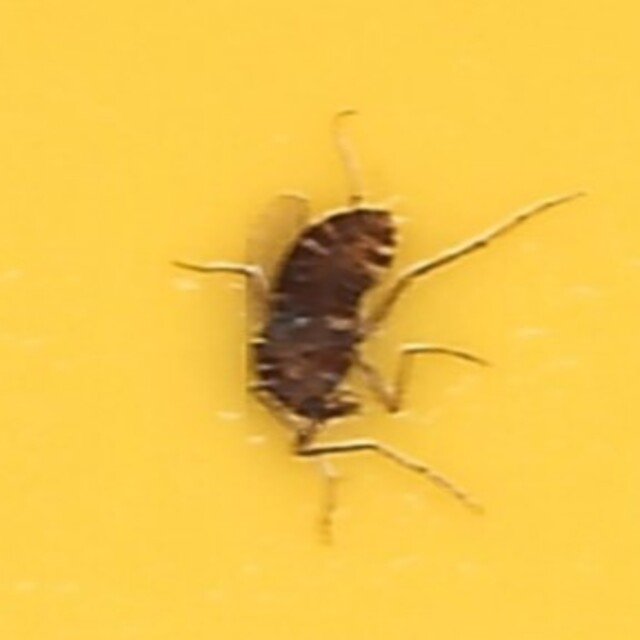Nematocera: (222, 187, 418, 453)
